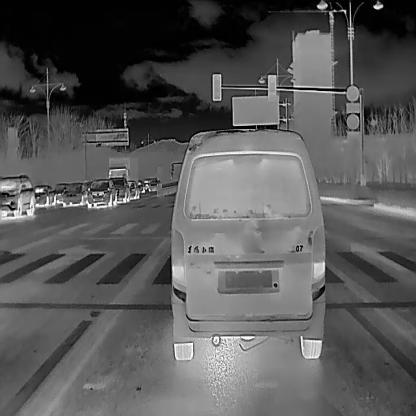car: (171, 125, 325, 360), (0, 174, 33, 217), (86, 179, 114, 206), (107, 154, 137, 178), (63, 182, 85, 205), (32, 183, 53, 206), (109, 177, 127, 202), (51, 180, 63, 201), (124, 178, 137, 197), (148, 176, 159, 191), (136, 178, 144, 192)
